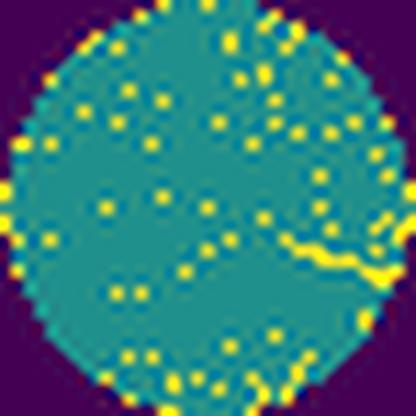Scratch: (276, 231, 404, 295)
